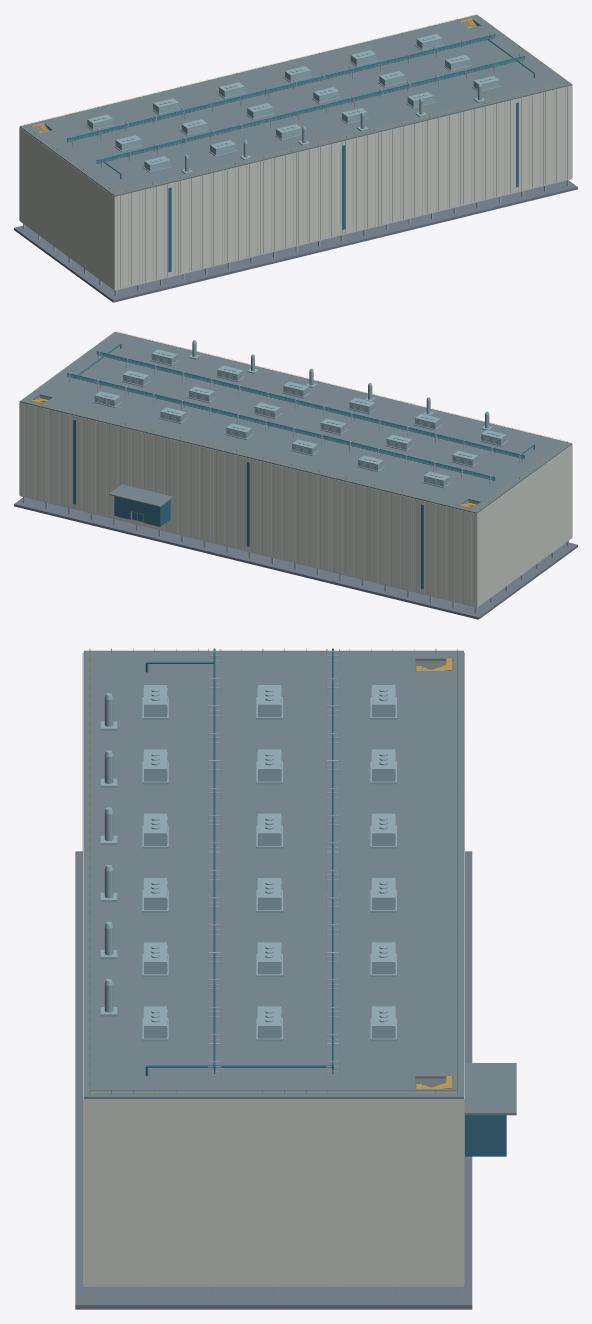
Rendered from FAB1.glb.
The picture shows the model from 3 angles, top to bottom: view 1: azimuth 30°, elevation 25°; view 2: azimuth 150°, elevation 25°; view 3: azimuth 270°, elevation 25°; orthographic projection. The views are drawn at different scales.
Visible parts, largest first — view 1: FAB1; view 2: FAB1; view 3: FAB1.
Boxes of the visible parts, x1,y1,x2,y2 form: FAB1: [14, 14, 577, 302]; FAB1: [14, 331, 577, 619]; FAB1: [75, 648, 516, 1309].
Bounding box in the file's own units: 254 × 63.2 × 104.
